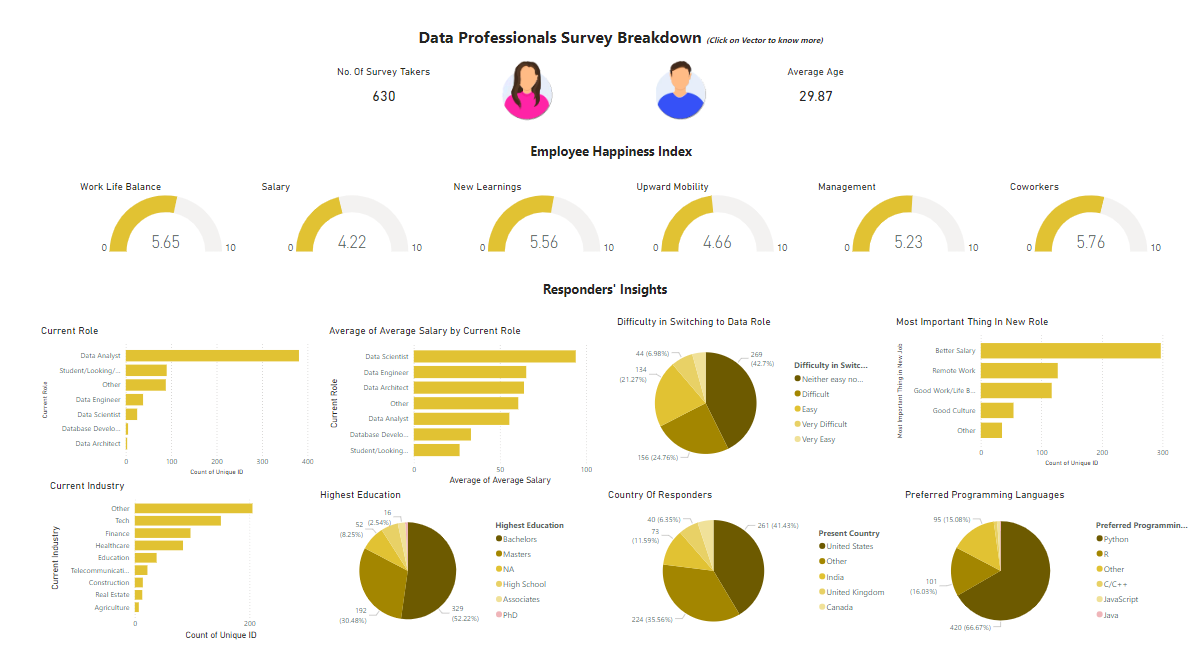

What the dashboard file says about the page in this screenshot:
{"tool":"powerbi","page":{"name":"All","canvas":[1920,1080],"ordinal":0},"visuals":[{"type":"textbox","box":[456,24,1032,48],"z":0},{"type":"image","box":[736,80,160,112],"z":1000},{"type":"image","box":[1008,80,128,112],"z":2000},{"type":"card","title":"No. Of Survey Takers","fields":{"Values":["Count(Data Professional Survey.Unique ID)"]},"box":[480,96,192,80],"z":3000},{"type":"card","title":"Average Age","fields":{"Values":["Avg(Data Professional Survey.Present Age)"]},"box":[1200,96,192,80],"z":4000},{"type":"gauge","title":"New Learnings","fields":{"Y":["Avg(Data Professional Survey.Current Position Happiness - New Learnings)"],"MinValue":["Min(Data Professional Survey.Current Position Happiness - New Learnings)"],"MaxValue":["Max(Data Professional Survey.Current Position Happiness - New Learnings)1"]},"box":[688,288,320,128],"z":5000},{"type":"gauge","title":"Coworkers","fields":{"Y":["Avg(Data Professional Survey.Current Position Happiness - Coworkers)"],"MinValue":["Min(Data Professional Survey.Current Position Happiness - Coworkers)"],"MaxValue":["Max(Data Professional Survey.Current Position Happiness - Coworkers)"]},"box":[1616,288,288,128],"z":6000},{"type":"gauge","title":"Upward Mobility","fields":{"Y":["Avg(Data Professional Survey.Current Position Happiness - Upward Mobility)"],"MinValue":["Min(Data Professional Survey.Current Position Happiness - Upward Mobility)"],"MaxValue":["Max(Data Professional Survey.Current Position Happiness - Upward Mobility)1"]},"box":[992,288,288,128],"z":7000},{"type":"gauge","title":"Salary","fields":{"Y":["Avg(Data Professional Survey.Current Position Happiness - Salary)"],"MinValue":["Min(Data Professional Survey.Current Position Happiness - Salary)"],"MaxValue":["Max(Data Professional Survey.Current Position Happiness - Salary)"]},"box":[368,288,320,128],"z":8000},{"type":"gauge","title":"Work Life Balance","fields":{"Y":["Avg(Data Professional Survey.Current Position Happiness - Work/Life Balance)"],"MinValue":["Min(Data Professional Survey.Current Position Happiness - Work/Life Balance)"],"MaxValue":["Max(Data Professional Survey.Current Position Happiness - Work/Life Balance)1"]},"box":[64,288,304,128],"z":9000},{"type":"gauge","title":"Management","fields":{"Y":["Avg(Data Professional Survey.Current Position Happiness - Management)"],"MinValue":["Min(Data Professional Survey.Current Position Happiness - Management)"],"MaxValue":["Max(Data Professional Survey.Current Position Happiness - Management)1"]},"box":[1296,288,320,128],"z":10000},{"type":"barChart","title":"Average Salary by Current Role","fields":{"Y":["Avg(Data Professional Survey.Average Salary)"],"Category":["Data Professional Survey.Current Role"]},"box":[464,528,464,272],"z":11000},{"type":"textbox","box":[544,208,800,48],"z":12000},{"type":"pieChart","title":"Difficulty in Switching to Data Role","fields":{"Category":["Data Professional Survey.Difficulty in Switching to Data Role"],"Y":["CountNonNull(Data Professional Survey.Unique ID)"]},"box":[960,512,432,272],"z":13000},{"type":"textbox","box":[544,448,800,48],"z":14000},{"type":"barChart","title":"Most Important Thing In New Role","fields":{"Category":["Data Professional Survey.Most Important Thing in New Job"],"Y":["CountNonNull(Data Professional Survey.Unique ID)"]},"box":[1424,512,464,256],"z":15000},{"type":"pieChart","title":"Preferred Programming Languages","fields":{"Category":["Data Professional Survey.Preferred Programming Language"],"Y":["CountNonNull(Data Professional Survey.Unique ID)"]},"box":[1440,800,480,256],"z":16000},{"type":"textbox","box":[554,218,800,48],"z":17000},{"type":"pieChart","title":"Country Of Responders","fields":{"Category":["Data Professional Survey.Present Country"],"Y":["CountNonNull(Data Professional Survey.Unique ID)"]},"box":[944,800,480,256],"z":18000},{"type":"barChart","title":"Current Role","fields":{"Category":["Data Professional Survey.Current Role"],"Y":["CountNonNull(Data Professional Survey.Unique ID)"]},"box":[0,528,464,256],"z":19000},{"type":"pieChart","title":"Highest Education","fields":{"Category":["Data Professional Survey.Highest Education"],"Y":["CountNonNull(Data Professional Survey.Unique ID)"]},"box":[464,800,432,256],"z":20000},{"type":"clusteredBarChart","title":"Current Industry","fields":{"Category":["Data Professional Survey.Current Industry"],"Y":["CountNonNull(Data Professional Survey.Unique ID)"]},"box":[16,784,448,272],"z":21000}]}

Visuals, with their boxes in screenshot pixels (x1, y1, x2, y2), scaled from the page's 1920x1080 canvas onto the 1192x672 screenshot:
textbox: [x1=283, y1=15, x2=924, y2=45]
image: [x1=457, y1=50, x2=556, y2=119]
image: [x1=626, y1=50, x2=705, y2=119]
"No. Of Survey Takers" card: [x1=298, y1=60, x2=417, y2=110]
"Average Age" card: [x1=745, y1=60, x2=864, y2=110]
"New Learnings" gauge: [x1=427, y1=179, x2=626, y2=259]
"Coworkers" gauge: [x1=1003, y1=179, x2=1182, y2=259]
"Upward Mobility" gauge: [x1=616, y1=179, x2=795, y2=259]
"Salary" gauge: [x1=228, y1=179, x2=427, y2=259]
"Work Life Balance" gauge: [x1=40, y1=179, x2=228, y2=259]
"Management" gauge: [x1=805, y1=179, x2=1003, y2=259]
"Average Salary by Current Role" barChart: [x1=288, y1=329, x2=576, y2=498]
textbox: [x1=338, y1=129, x2=834, y2=159]
"Difficulty in Switching to Data Role" pieChart: [x1=596, y1=319, x2=864, y2=488]
textbox: [x1=338, y1=279, x2=834, y2=309]
"Most Important Thing In New Role" barChart: [x1=884, y1=319, x2=1172, y2=478]
"Preferred Programming Languages" pieChart: [x1=894, y1=498, x2=1191, y2=657]
textbox: [x1=344, y1=136, x2=841, y2=166]
"Country Of Responders" pieChart: [x1=586, y1=498, x2=884, y2=657]
"Current Role" barChart: [x1=0, y1=329, x2=288, y2=488]
"Highest Education" pieChart: [x1=288, y1=498, x2=556, y2=657]
"Current Industry" clusteredBarChart: [x1=10, y1=488, x2=288, y2=657]
